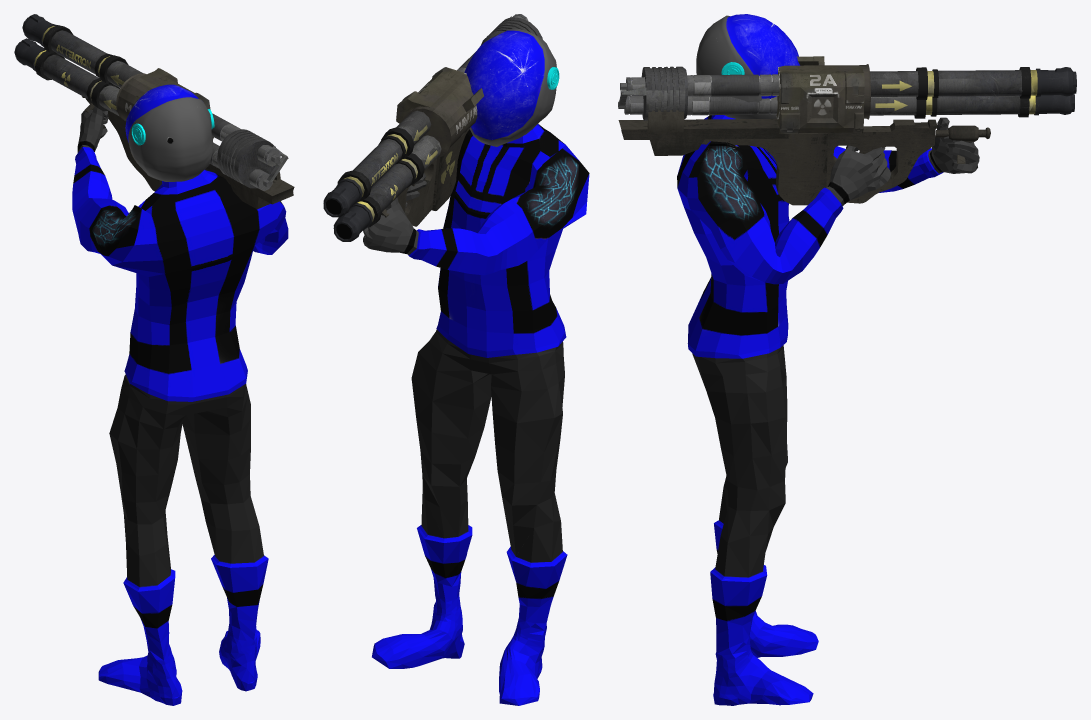
3 views of the same model, side by side, from view 1: azimuth 30°, elevation 25°; view 2: azimuth 150°, elevation 25°; view 3: azimuth 270°, elevation 25° (orthographic). The views are drawn at different scales.
Parts seen in each view (by area): view 1: Brazos2, Piernas1, group1_polySurface5, Cabeza1; view 2: Piernas1, Brazos2, group1_polySurface5, Cabeza1; view 3: group1_polySurface5, Brazos2, Piernas1, Cabeza1.
Boxes of the visible parts, left/top/right/bottom form: Brazos2: left=72, top=106, right=288, bottom=401; Piernas1: left=98, top=374, right=268, bottom=705; group1_polySurface5: left=14, top=14, right=294, bottom=209; Cabeza1: left=125, top=84, right=214, bottom=181; Piernas1: left=372, top=329, right=567, bottom=705; Brazos2: left=363, top=124, right=589, bottom=357; group1_polySurface5: left=323, top=14, right=542, bottom=241; Cabeza1: left=464, top=28, right=559, bottom=146; group1_polySurface5: left=618, top=56, right=1076, bottom=205; Brazos2: left=677, top=115, right=979, bottom=358; Piernas1: left=692, top=345, right=818, bottom=705; Cabeza1: left=696, top=14, right=799, bottom=118.
Bounding box in the file's own units: 55.48 × 177 × 113.
